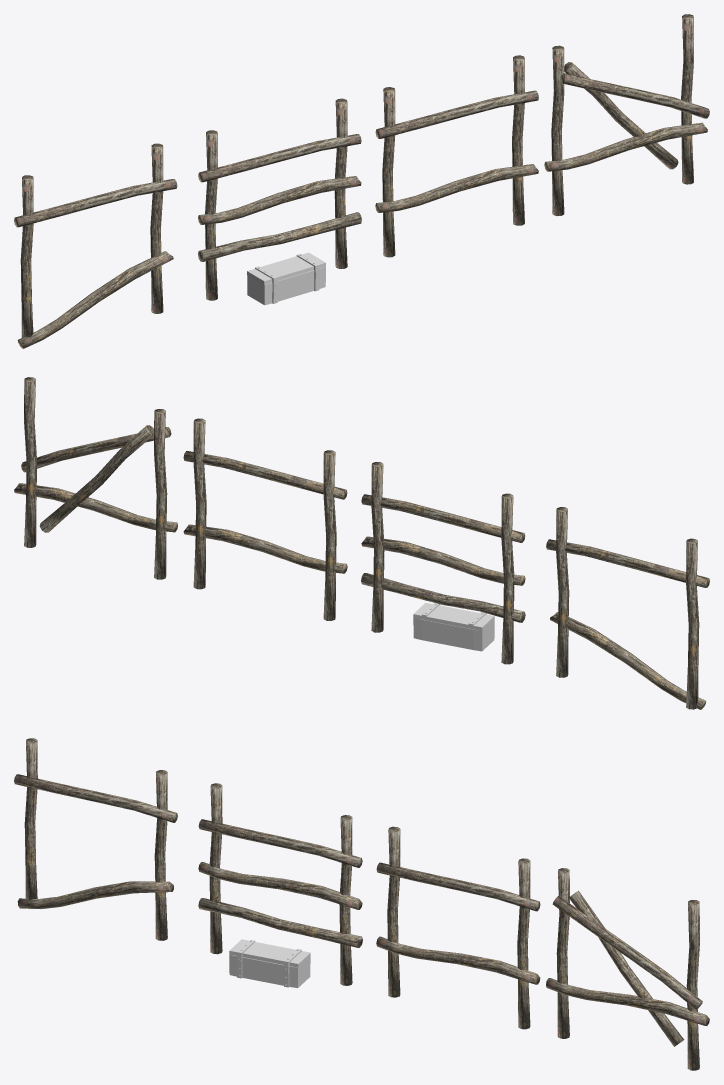
The model's file is Cerca.fbx.
3 views of the same model, one above another, from view 1: azimuth 30°, elevation 25°; view 2: azimuth 150°, elevation 25°; view 3: azimuth 330°, elevation 25° (orthographic).
Visible parts, largest first — view 1: Wood_02.002, Wood_02.001, Wood_02, Wood_02.003, Wood_03, Wood_03.007, Wood_01.002, Wood_01.001, Wood_01, Wood_03.004, Wood_03.003, Wood_03.006 (+8 smaller); view 2: Wood_03.005, Wood_03.004, Wood_03.007, Wood_03.001, Wood_03.006, Wood_03.008, Wood_03.003, Wood_03.002, Wood_02.002, Wood_03.009, Wood_02.001, Wood_02 (+8 smaller); view 3: Wood_01.003, Wood_02.001, Wood_02, Wood_02.003, Wood_03, Wood_01.001, Wood_01, Wood_01.002, Wood_02.002, Wood_03.004, Wood_03.006, Wood_03.005 (+8 smaller).
Boxes of the visible parts, bbox=[...] form: Wood_02.002: bbox=[17, 251, 173, 348]; Wood_02.001: bbox=[375, 164, 538, 212]; Wood_02: bbox=[198, 176, 361, 224]; Wood_02.003: bbox=[544, 122, 707, 171]; Wood_03: bbox=[198, 212, 361, 261]; Wood_03.007: bbox=[551, 45, 564, 215]; Wood_01.002: bbox=[14, 179, 177, 227]; Wood_01.001: bbox=[375, 90, 538, 138]; Wood_01: bbox=[198, 134, 361, 182]; Wood_03.004: bbox=[382, 87, 395, 257]; Wood_03.003: bbox=[20, 175, 33, 337]; Wood_03.006: bbox=[150, 143, 163, 313]; Wood_03.005: bbox=[193, 418, 206, 589]; Wood_03.004: bbox=[323, 450, 336, 620]; Wood_03.007: bbox=[154, 409, 167, 579]; Wood_03.001: bbox=[501, 493, 514, 664]; Wood_03.006: bbox=[556, 507, 569, 677]; Wood_03.008: bbox=[24, 377, 37, 547]; Wood_03.003: bbox=[686, 538, 699, 709]; Wood_03.002: bbox=[371, 462, 384, 632]; Wood_02.002: bbox=[550, 612, 706, 709]; Wood_03.009: bbox=[39, 425, 153, 532]; Wood_02.001: bbox=[183, 524, 347, 573]; Wood_02: bbox=[361, 536, 525, 585]; Wood_01.003: bbox=[552, 896, 702, 1009]; Wood_02.001: bbox=[376, 936, 540, 984]; Wood_02: bbox=[198, 862, 362, 909]; Wood_02.003: bbox=[546, 978, 709, 1025]; Wood_03: bbox=[198, 898, 362, 947]; Wood_01.001: bbox=[376, 862, 540, 911]; Wood_01: bbox=[198, 819, 362, 867]; Wood_01.002: bbox=[14, 774, 177, 822]; Wood_02.002: bbox=[17, 881, 173, 909]; Wood_03.004: bbox=[387, 826, 400, 997]; Wood_03.006: bbox=[154, 770, 167, 940]; Wood_03.005: bbox=[517, 858, 530, 1029].
Size of the model in its own units: 872 by 203 by 52.57.
Materials: 3 (1 with a texture image).
